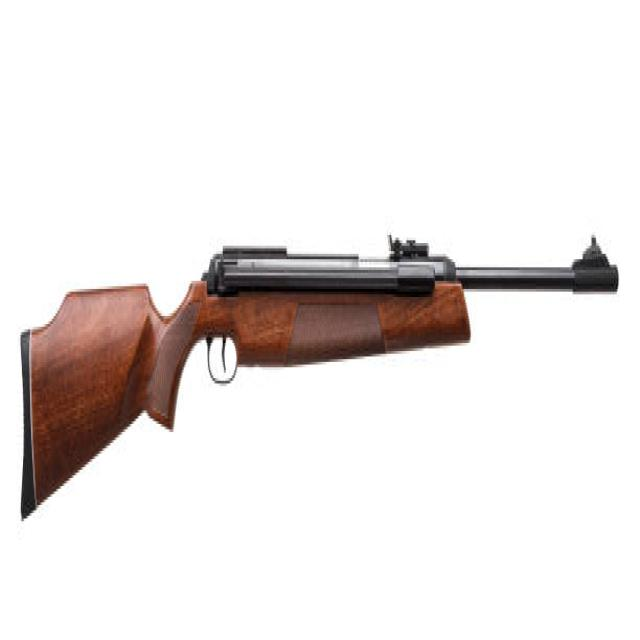rifle: (14, 230, 624, 533)
